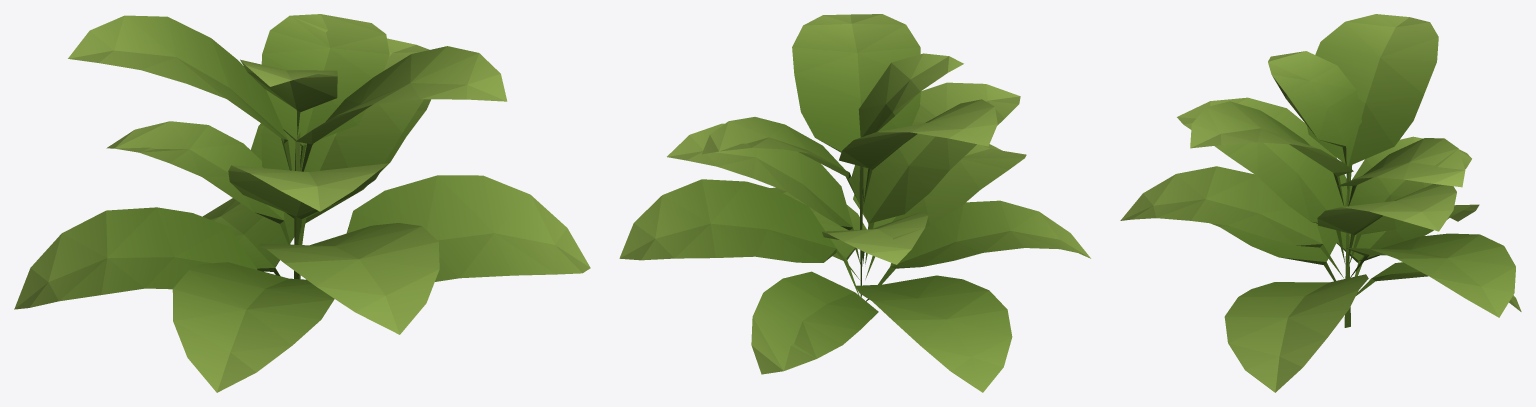
File: Plant_02.fbx
3 views of the same model, side by side, from view 1: azimuth 30°, elevation 25°; view 2: azimuth 150°, elevation 25°; view 3: azimuth 270°, elevation 25° (orthographic). The views are drawn at different scales.
Parts seen in each view (by area): view 1: Plant_02; view 2: Plant_02; view 3: Plant_02.
Boxes of the visible parts, x1,y1,x2,y2 form: Plant_02: [14, 14, 590, 392]; Plant_02: [619, 14, 1090, 392]; Plant_02: [1120, 14, 1521, 392].
Size of the model in its own units: 1.85 by 1.16 by 1.72.
